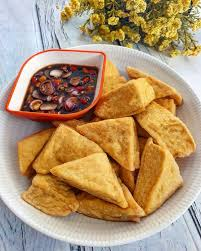Tahu goreng: (50, 152, 132, 210), (132, 137, 184, 214), (75, 117, 144, 170), (139, 101, 198, 155), (93, 78, 157, 124), (20, 172, 78, 218), (9, 126, 59, 174)
